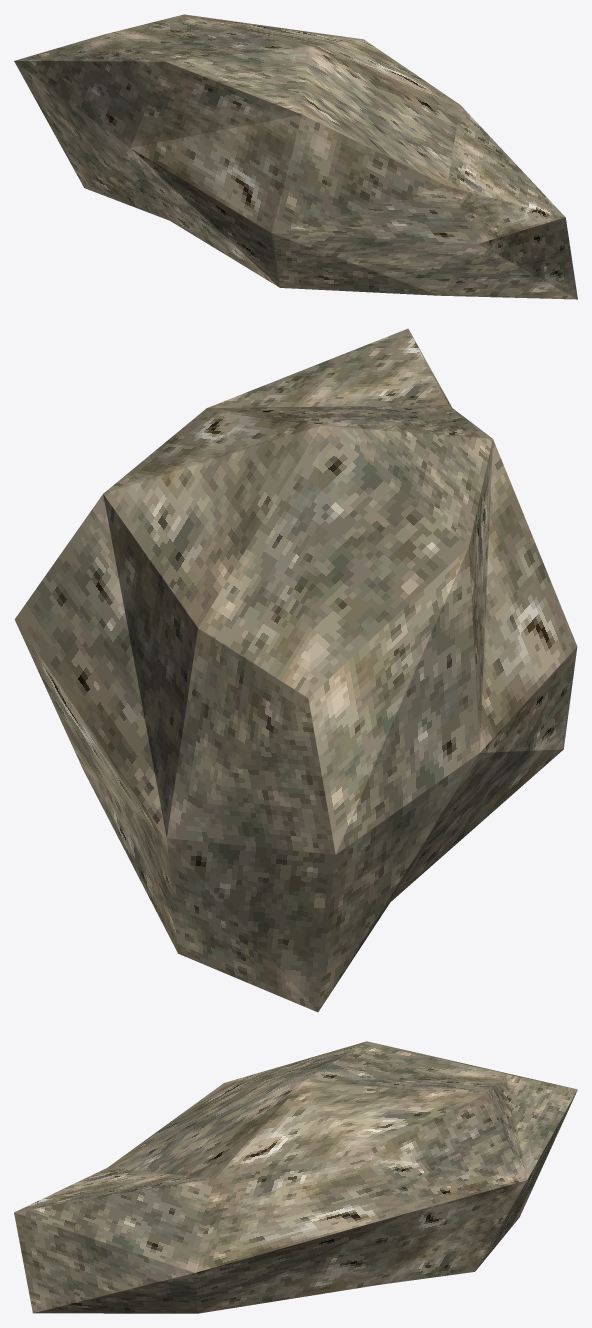
The model's file is asteroid_all_medium_02_l2.fbx.
3 renders of one model, top to bottom at view 1: azimuth 30°, elevation 25°; view 2: azimuth 150°, elevation 25°; view 3: azimuth 270°, elevation 25°, orthographic. The views are drawn at different scales.
Visible parts, largest first — view 1: mesh_node; view 2: mesh_node; view 3: mesh_node.
Part boxes in pixels (x1=…): mesh_node: x1=14, y1=14, x2=577, y2=299; mesh_node: x1=14, y1=328, x2=577, y2=1012; mesh_node: x1=14, y1=1041, x2=577, y2=1313.
Bounding box in the file's own units: 53.35 × 36.97 × 89.18.
